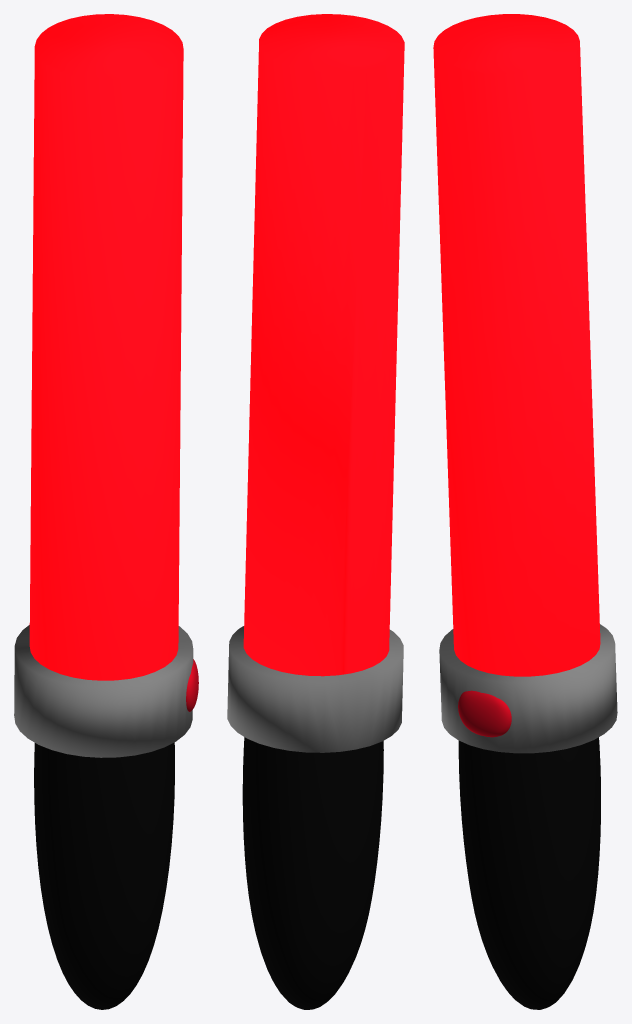
Rendered from penlight.glb.
3 views of the same model, side by side, from view 1: azimuth 30°, elevation 25°; view 2: azimuth 150°, elevation 25°; view 3: azimuth 270°, elevation 25° (orthographic).
Visible parts, largest first — view 1: 立方体.001; view 2: 立方体.001; view 3: 立方体.001.
Part boxes in pixels (x1=…): 立方体.001: x1=14, y1=14, x2=198, y2=1009; 立方体.001: x1=227, y1=14, x2=404, y2=1009; 立方体.001: x1=433, y1=14, x2=617, y2=1009.
Bounding box in the file's own units: 2.42 × 14.47 × 2.51.
